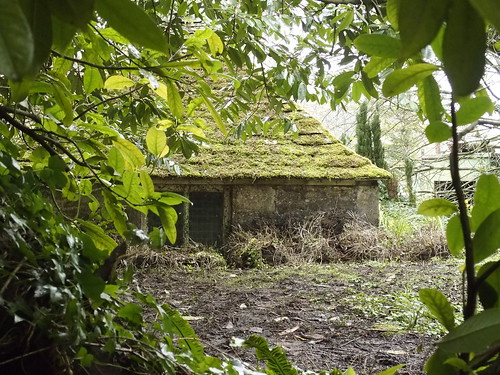building: (72, 82, 383, 253)
vegetation: (1, 18, 260, 375), (349, 19, 500, 375)
